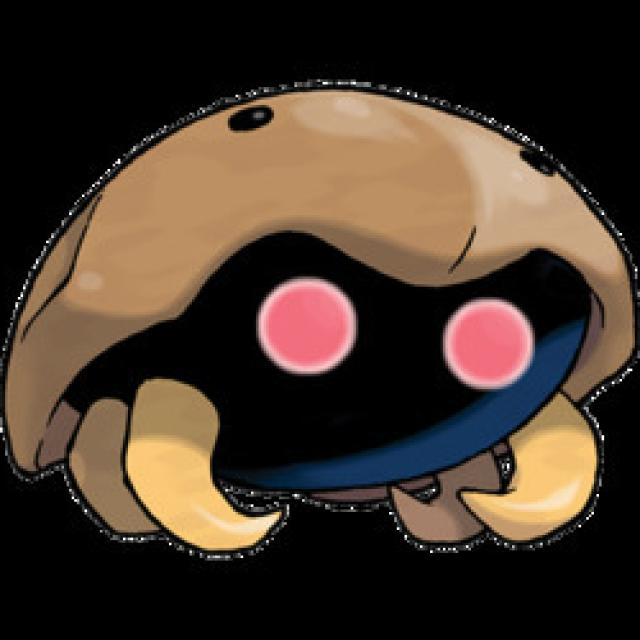Kabuto: (11, 84, 631, 554)
